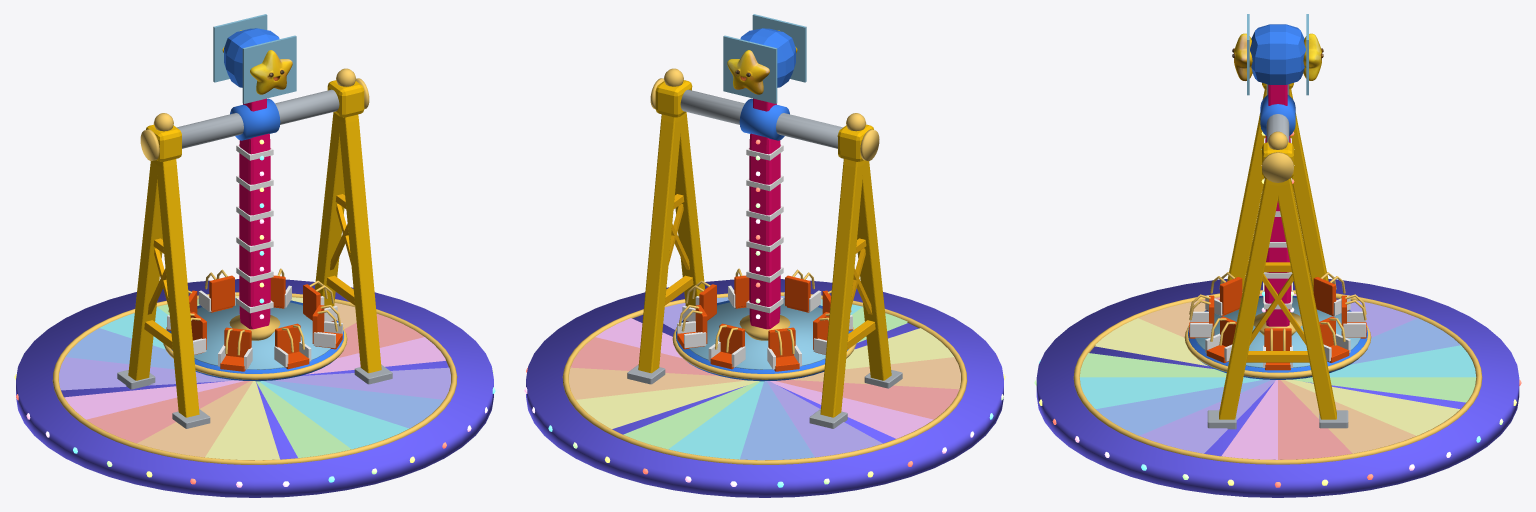
The model's file is duck_twist.glb.
3 views of the same model, side by side, from view 1: azimuth 30°, elevation 25°; view 2: azimuth 150°, elevation 25°; view 3: azimuth 270°, elevation 25° (orthographic).
Visible parts, largest first — view 1: base_toon_6c63ff, base_toon_ffc300, base_toon_bdb2ff, base_toon_ffd166, base_toon_a0c4ff, arm_toon_ff006e, wheel_toon_fb5607, base_toon_ffc6ff, base_toon_adb5bd, base_toon_ffadad, base_toon_9bf6ff, arm_toon_8ecae6 (+12 smaller); view 2: base_toon_6c63ff, base_toon_ffc300, base_toon_fdffb6, base_toon_ffd166, base_toon_ffadad, base_toon_ffd6a5, arm_toon_ff006e, wheel_toon_fb5607, base_toon_adb5bd, base_toon_ffc6ff, arm_toon_8ecae6, base_toon_9bf6ff (+12 smaller); view 3: base_toon_6c63ff, base_toon_ffc300, base_toon_9bf6ff, base_toon_ffd166, base_toon_fdffb6, base_toon_a0c4ff, base_toon_caffbf, wheel_toon_fb5607, base_toon_bdb2ff, arm_toon_3a86ff, base_toon_ffd6a5, base_toon_ffadad (+10 smaller).
Boxes of the visible parts, <box> form: base_toon_6c63ff: <box>16,279,493,497</box>; base_toon_ffc300: <box>128,80,381,417</box>; base_toon_bdb2ff: <box>59,357,450,399</box>; base_toon_ffd166: <box>52,68,457,464</box>; base_toon_a0c4ff: <box>66,328,443,428</box>; arm_toon_ff006e: <box>239,98,270,329</box>; wheel_toon_fb5607: <box>167,275,342,371</box>; base_toon_ffc6ff: <box>64,337,445,419</box>; base_toon_adb5bd: <box>117,89,392,428</box>; base_toon_ffadad: <box>86,313,424,443</box>; base_toon_9bf6ff: <box>100,307,408,449</box>; arm_toon_8ecae6: <box>213,14,296,103</box>; base_toon_6c63ff: <box>526,279,1003,497</box>; base_toon_ffc300: <box>638,80,891,417</box>; base_toon_fdffb6: <box>576,328,953,428</box>; base_toon_ffd166: <box>562,68,967,464</box>; base_toon_ffadad: <box>570,337,959,419</box>; base_toon_ffd6a5: <box>569,357,960,399</box>; arm_toon_ff006e: <box>749,98,780,329</box>; wheel_toon_fb5607: <box>677,275,852,371</box>; base_toon_adb5bd: <box>627,89,902,428</box>; base_toon_ffc6ff: <box>595,318,933,438</box>; arm_toon_8ecae6: <box>723,14,806,103</box>; base_toon_9bf6ff: <box>668,299,862,459</box>; base_toon_6c63ff: <box>1036,279,1519,497</box>; base_toon_ffc300: <box>1219,83,1336,419</box>; base_toon_9bf6ff: <box>1080,345,1475,408</box>; base_toon_ffd166: <box>1073,131,1482,464</box>; base_toon_fdffb6: <box>1095,318,1459,435</box>; base_toon_a0c4ff: <box>1096,318,1460,435</box>; base_toon_caffbf: <box>1080,353,1475,402</box>; wheel_toon_fb5607: <box>1189,277,1366,370</box>; base_toon_bdb2ff: <box>1140,300,1417,453</box>; arm_toon_3a86ff: <box>1250,24,1305,135</box>; base_toon_ffd6a5: <box>1138,300,1415,453</box>; base_toon_ffadad: <box>1202,294,1352,459</box>.
Bounding box in the file's own units: 15.14 × 12.69 × 15.14.
25 materials, 1 textured.
